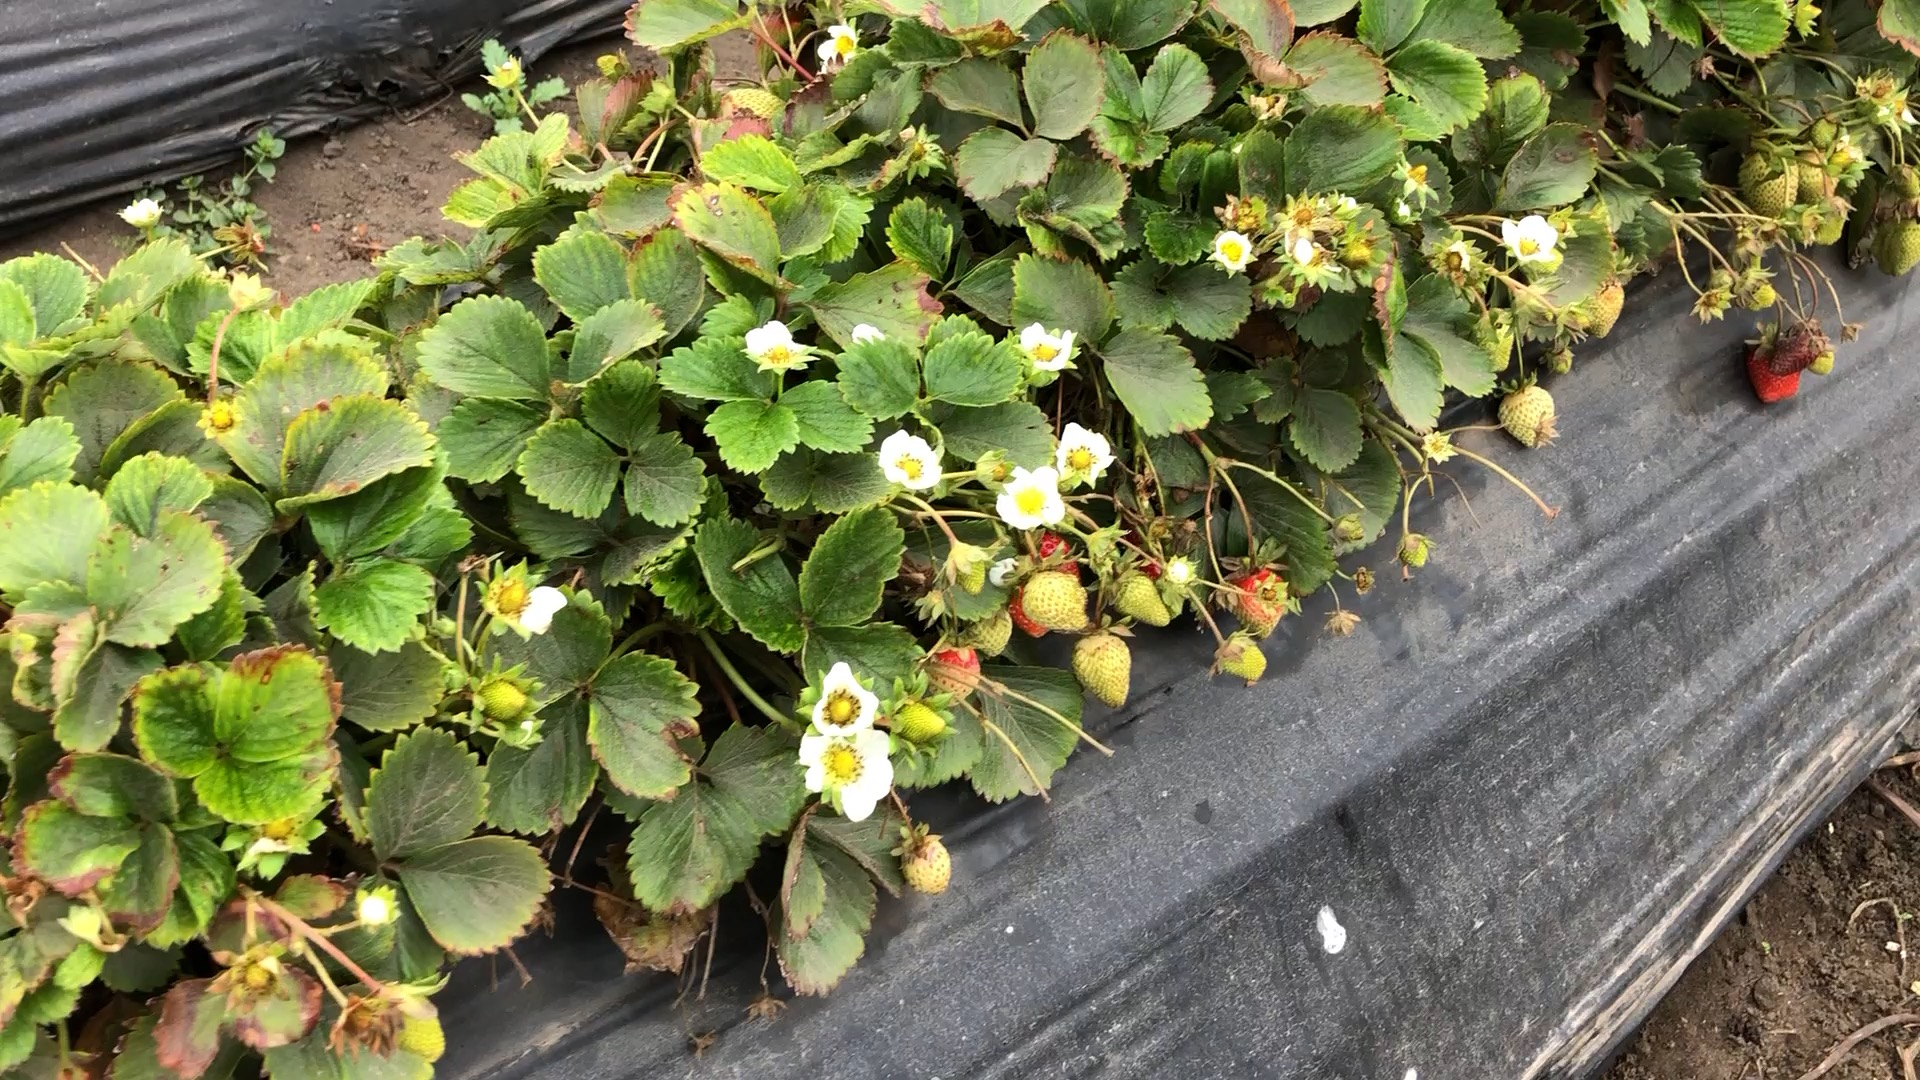ripe_strawberry: (1005, 531, 1077, 641), (1745, 334, 1805, 404), (1766, 316, 1826, 381)
unripe_strawberry: (385, 993, 456, 1069), (1067, 629, 1131, 711), (1228, 562, 1291, 644), (1021, 566, 1093, 636), (1735, 145, 1800, 222), (1105, 567, 1178, 632), (1493, 382, 1560, 448), (923, 641, 985, 705), (898, 832, 957, 899), (475, 670, 535, 729), (1578, 276, 1629, 342), (942, 541, 993, 601), (1874, 214, 1920, 280), (716, 84, 787, 127), (1791, 144, 1840, 203), (1212, 632, 1269, 682), (1804, 200, 1853, 249), (965, 613, 1015, 657), (1735, 268, 1782, 307), (1805, 108, 1842, 149), (1394, 534, 1431, 571), (1884, 164, 1920, 200), (1807, 335, 1836, 377), (1327, 513, 1367, 542)
